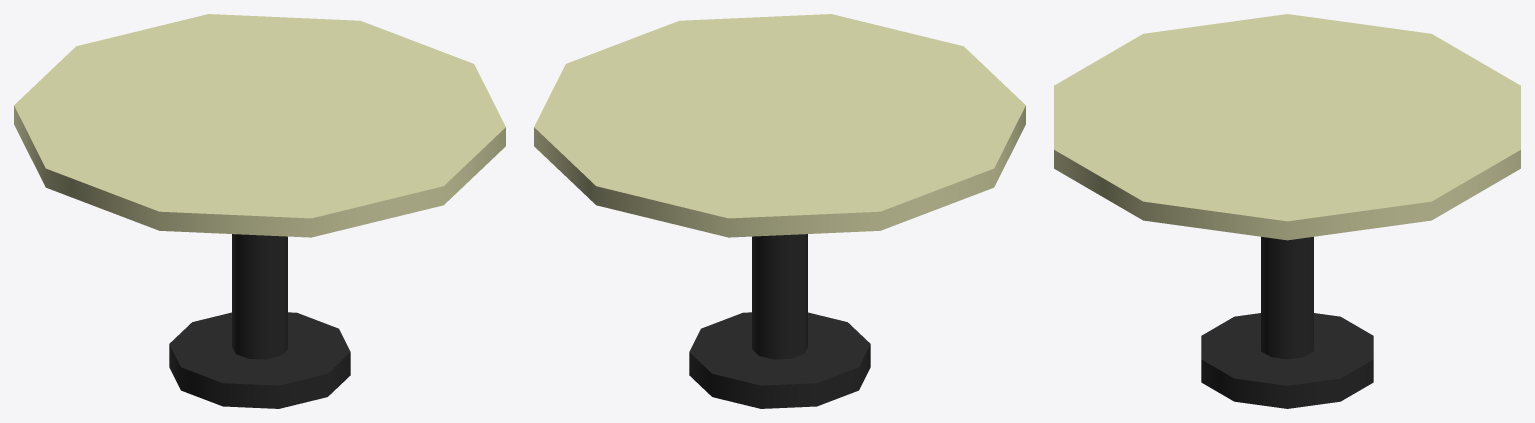
Rendered from Env_Table_Style1.fbx.
The picture shows the model from 3 angles, left to right: view 1: azimuth 30°, elevation 25°; view 2: azimuth 150°, elevation 25°; view 3: azimuth 270°, elevation 25°; orthographic projection.
Parts seen in each view (by area): view 1: Env_Tavble_Style1; view 2: Env_Tavble_Style1; view 3: Env_Tavble_Style1.
Boxes of the visible parts, <box> form: Env_Tavble_Style1: <box>14,14,505,408</box>; Env_Tavble_Style1: <box>534,14,1025,408</box>; Env_Tavble_Style1: <box>1054,14,1520,408</box>.
Size of the model in its own units: 145 by 82.75 by 138.
